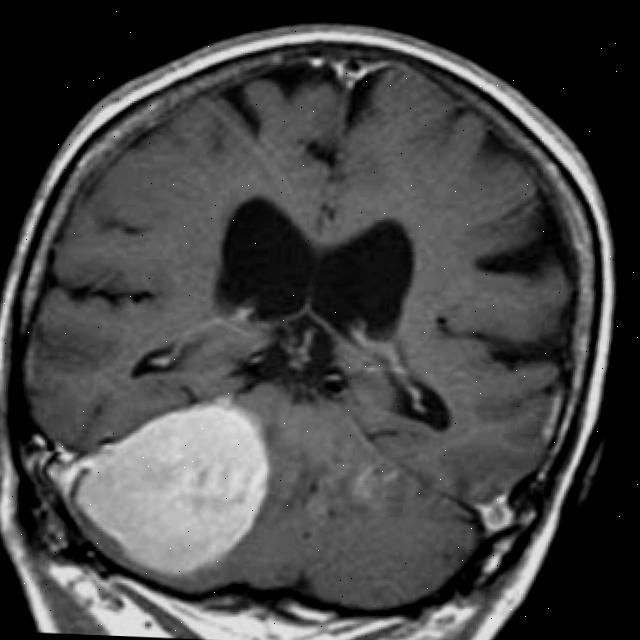Meningioma: (35, 383, 277, 580)
